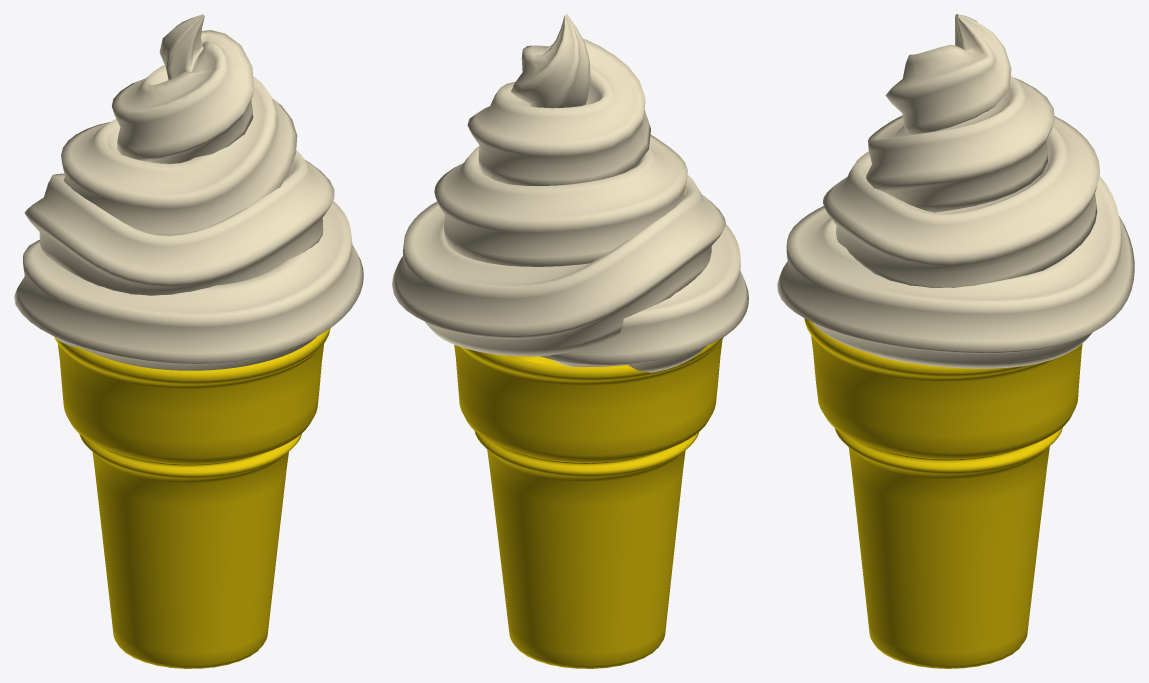
The picture shows the model from 3 angles, left to right: view 1: azimuth 30°, elevation 25°; view 2: azimuth 150°, elevation 25°; view 3: azimuth 270°, elevation 25°; orthographic projection. The views are drawn at different scales.
Parts seen in each view (by area): view 1: vaffel.002; view 2: vaffel.002; view 3: vaffel.002.
Boxes of the visible parts, x1,y1,x2,y2 form: vaffel.002: (14,14,363,668); vaffel.002: (392,14,748,668); vaffel.002: (777,14,1134,668).
Bounding box in the file's own units: 52.46 × 51.5 × 100.
